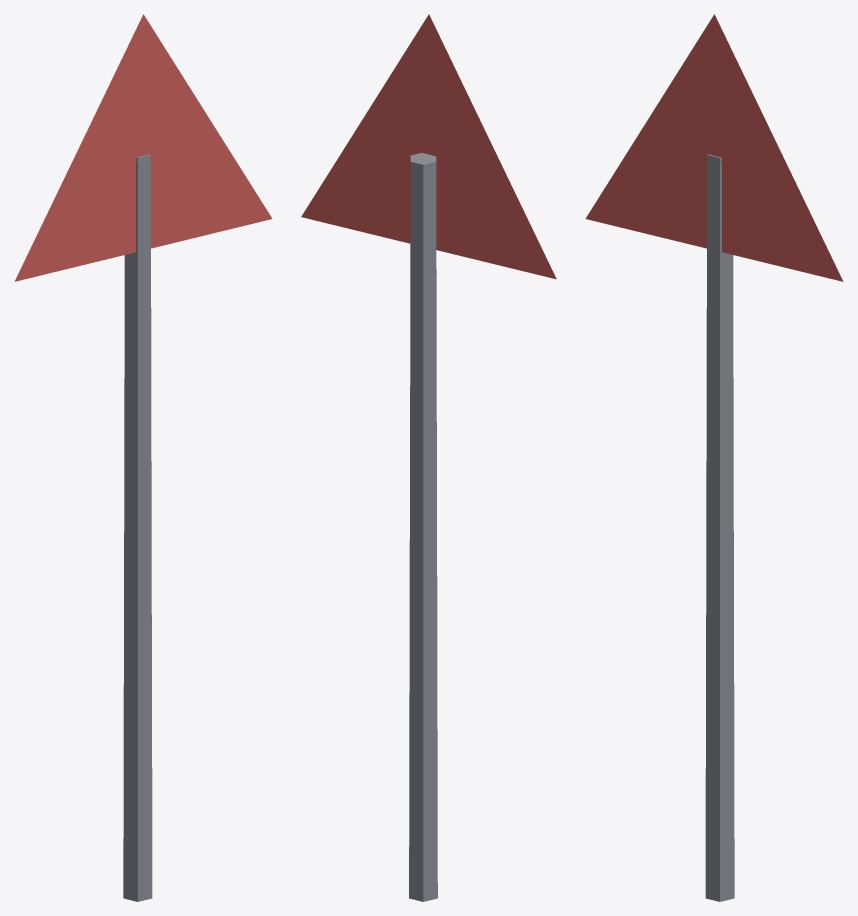
File: prop-sign-stop.glb
3 views of the same model, side by side, from view 1: azimuth 30°, elevation 25°; view 2: azimuth 150°, elevation 25°; view 3: azimuth 330°, elevation 25° (orthographic).
Visible parts, largest first — view 1: sign-triangle, sign-post; view 2: sign-triangle, sign-post; view 3: sign-triangle, sign-post.
Part boxes in pixels (x1,y1,x2,y2): sign-triangle: (14,14,272,281); sign-post: (123,154,152,901); sign-triangle: (301,14,556,279); sign-post: (409,153,437,901); sign-triangle: (585,14,843,281); sign-post: (705,154,734,901).
Size of the model in its own units: 0.8 by 2.62 by 0.0779.
